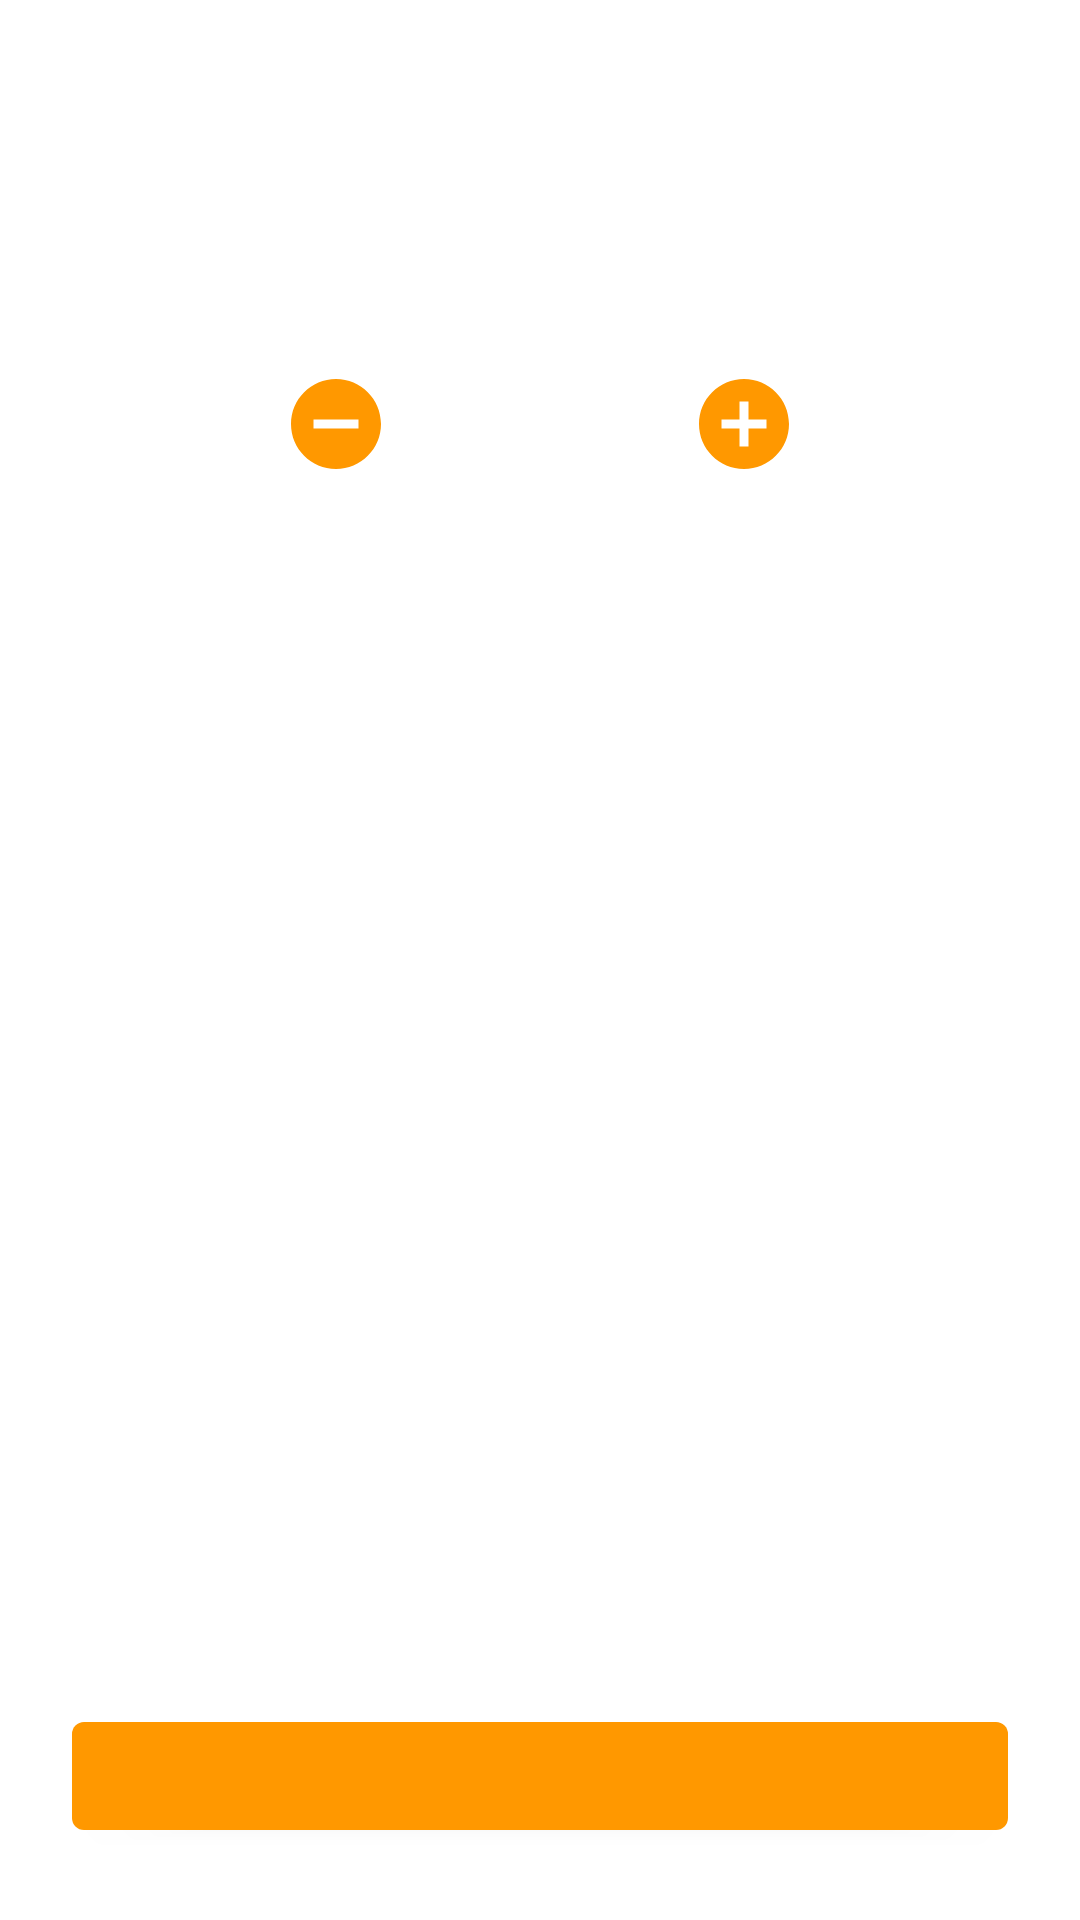

Locate icon controls on the screen. Image size 1080px x 1920px, boxes as box=[x1, y1, x2, y2].
less: box=[291, 379, 381, 469]
more: box=[699, 379, 789, 469]
